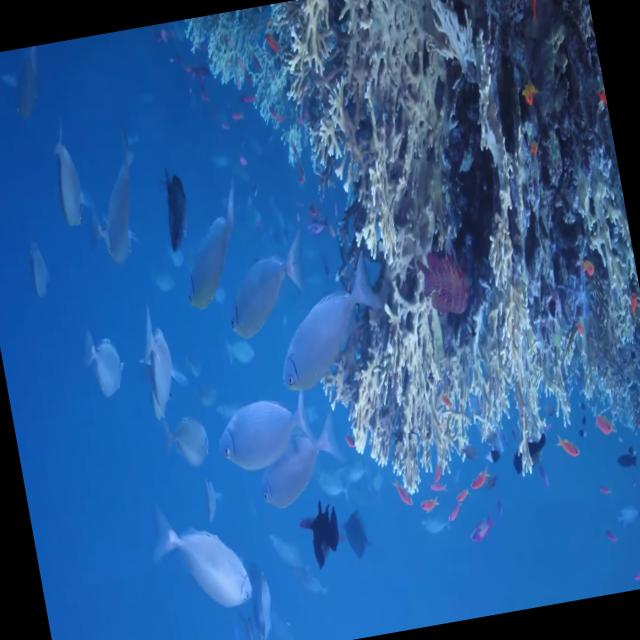fish: (263, 240, 392, 392), (142, 494, 254, 617), (246, 399, 346, 513), (168, 179, 252, 309), (214, 228, 312, 338), (209, 388, 321, 478), (132, 307, 181, 418), (42, 121, 90, 232), (80, 322, 130, 402)
